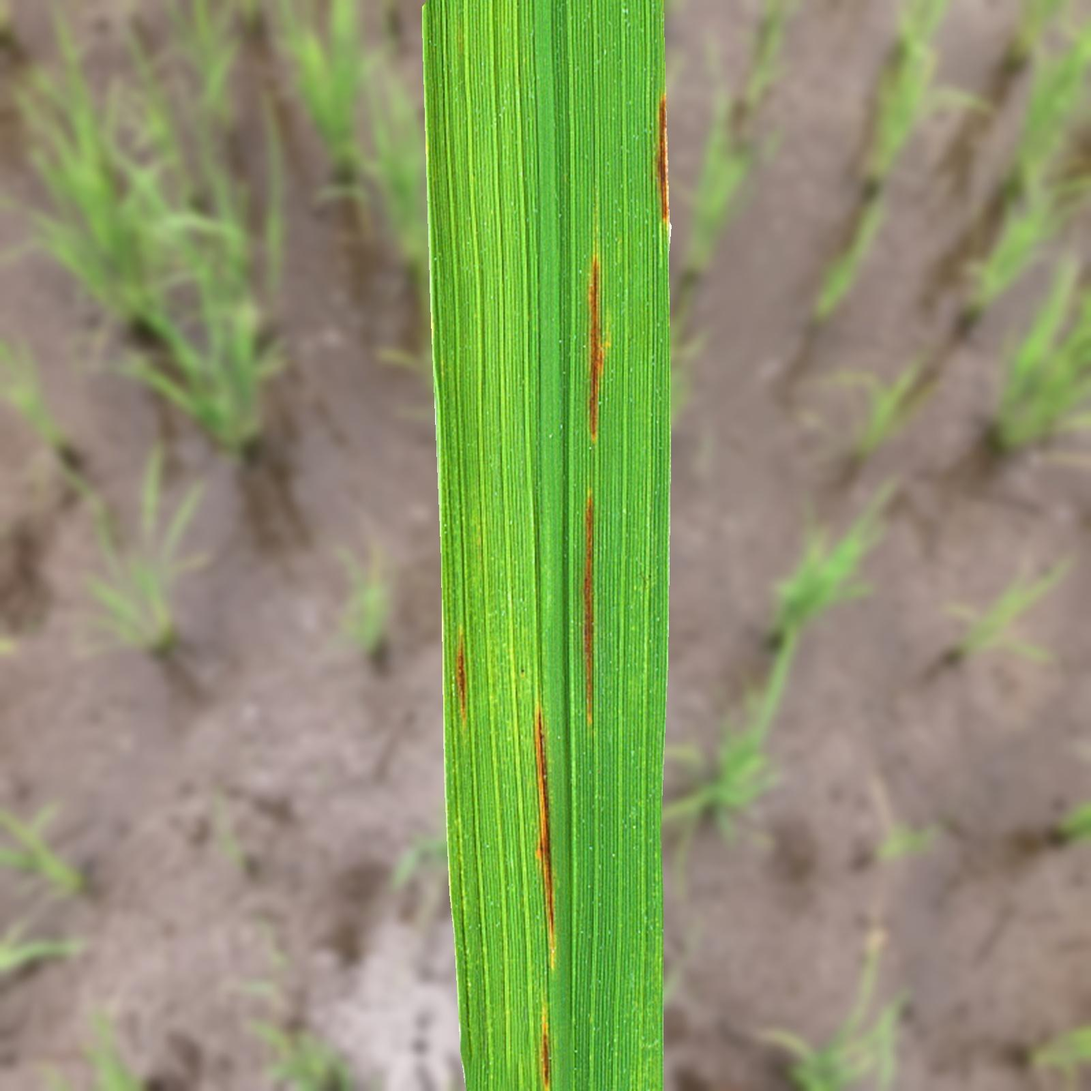NBS: (535, 702, 554, 932), (590, 256, 603, 440), (584, 496, 593, 719), (657, 93, 668, 222), (458, 641, 465, 720), (543, 1023, 549, 1089)
